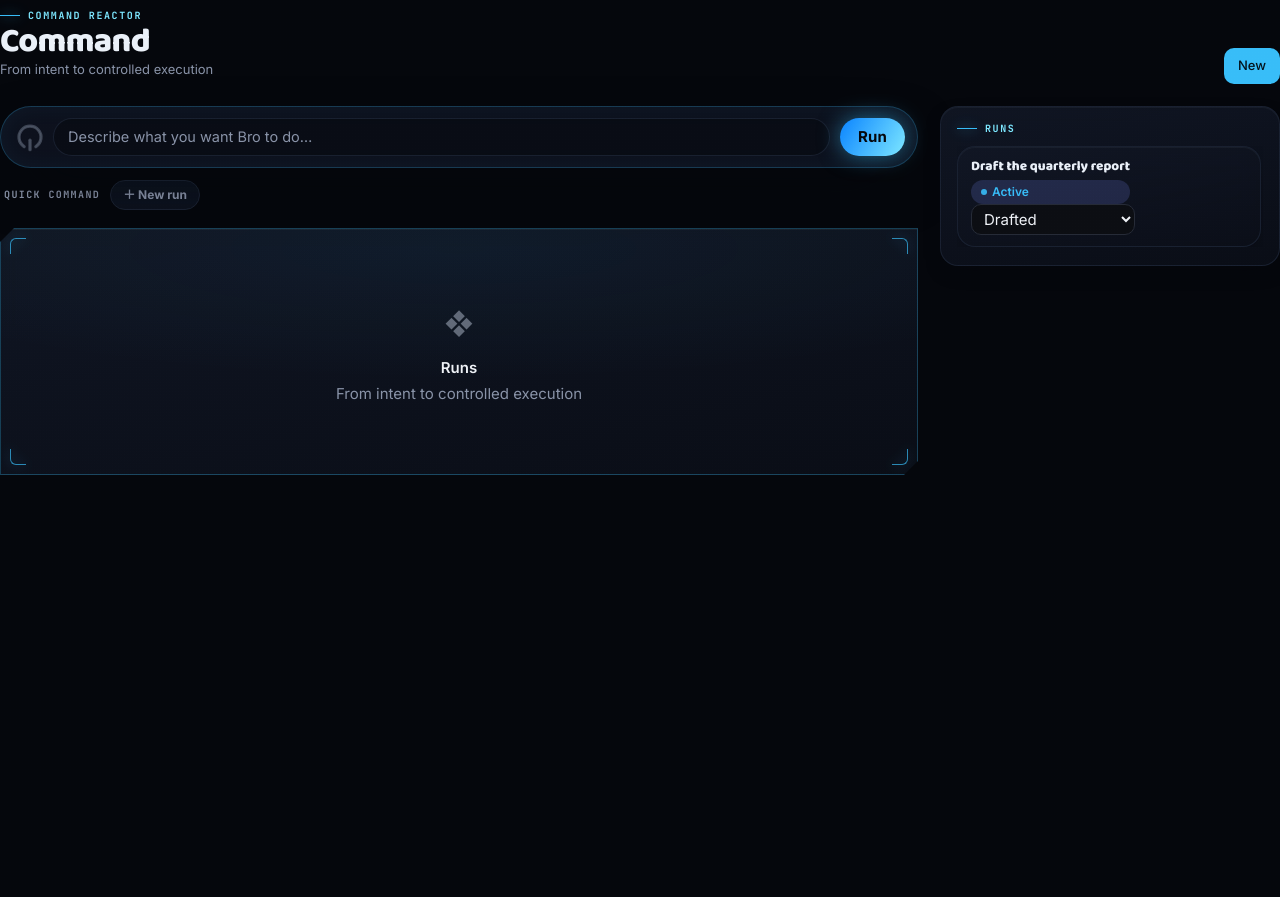
Command — a refusal, by its wording, is not a failure › renders an error worded as a refusal as a refusal, with the returned reason verbatim
Click the button "Draft the quarterly report Active".
click(1051, 181)  # box [971,158,1130,204]
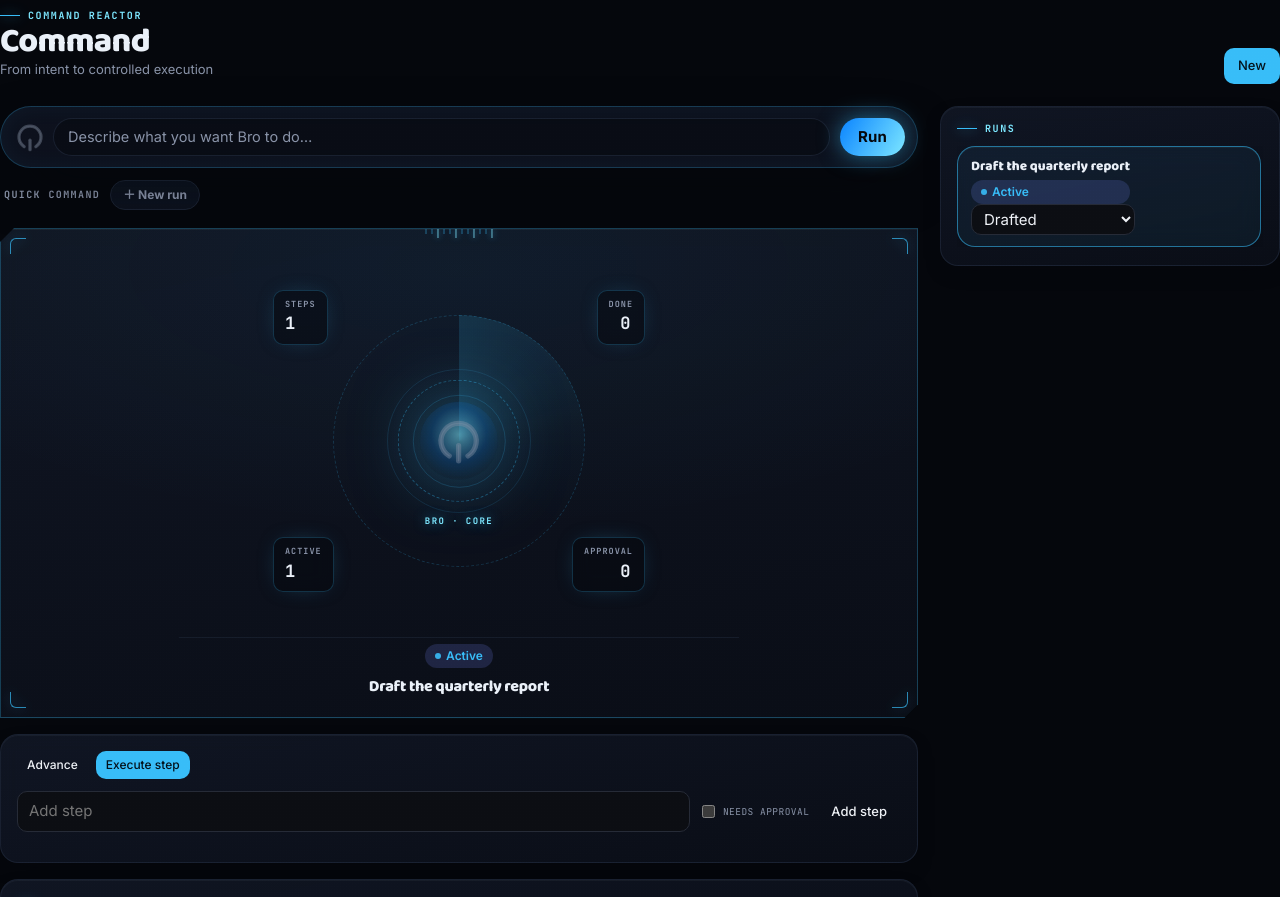
Click the button "Execute step".
click(143, 766)  # box [96,752,190,780]
(page scrolled)
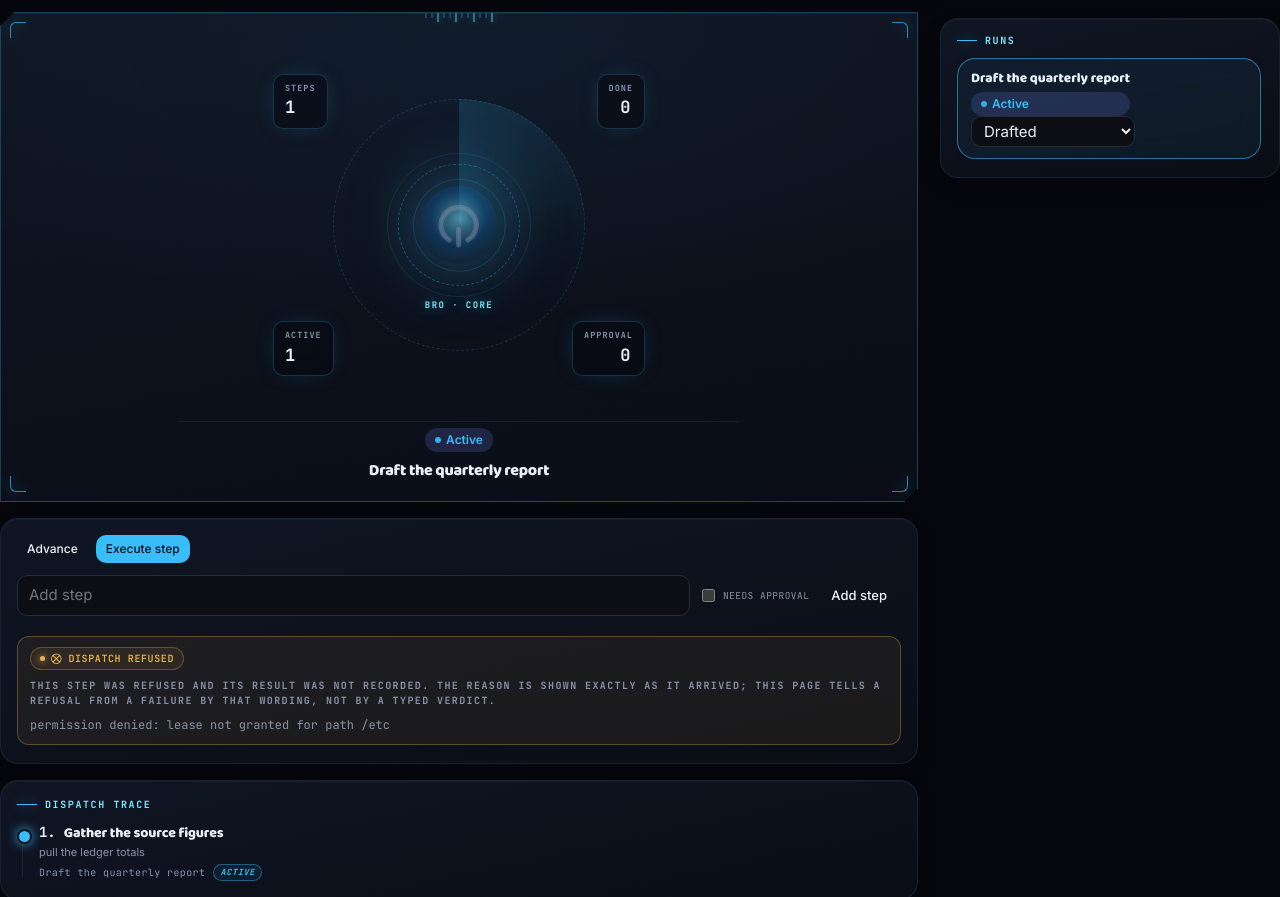
Check: the message shows "lease not granted for path /etc", box [30,717,390,733]
